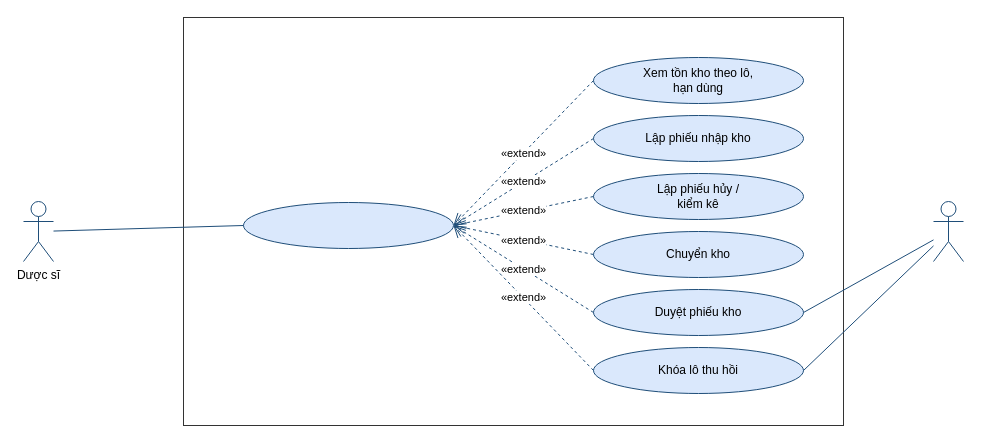
This 1008x443 diagram has some shape labels left out. The shapes that lost their labels are listed below. From the top down, each one's centre as x and y in pixels, then its label:
point 348,225: Quản lý kho
point 948,231: Dược sĩ quản lý
